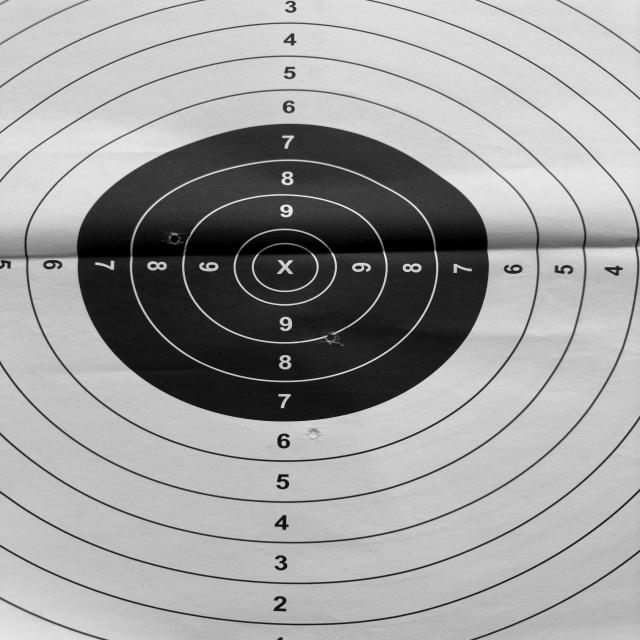bullet: (305, 427, 323, 441), (165, 232, 181, 244), (325, 333, 341, 344)
target: (0, 0, 640, 640)
